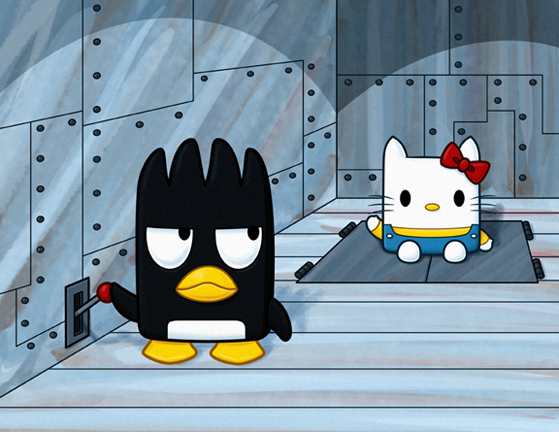batsumaru: (112, 139, 292, 363)
